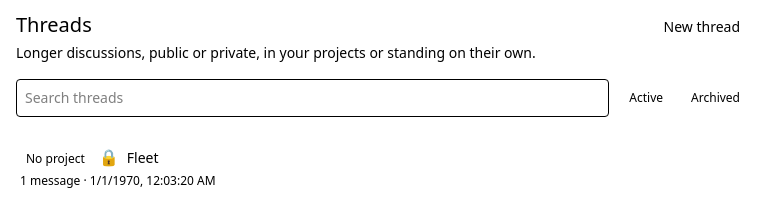
Test: ThreadsView private thread › shows the sender as an unverified key, never the name the message claims
The image size is (769, 205).
Click the text "Fleet" at (143, 158), box [127, 148, 158, 168]
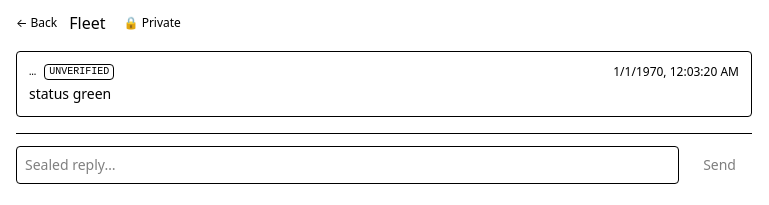
Expected: the text "status green" is shown, [29, 84, 111, 103]
Expected: the text "unverified" is shown, [44, 64, 114, 80]
